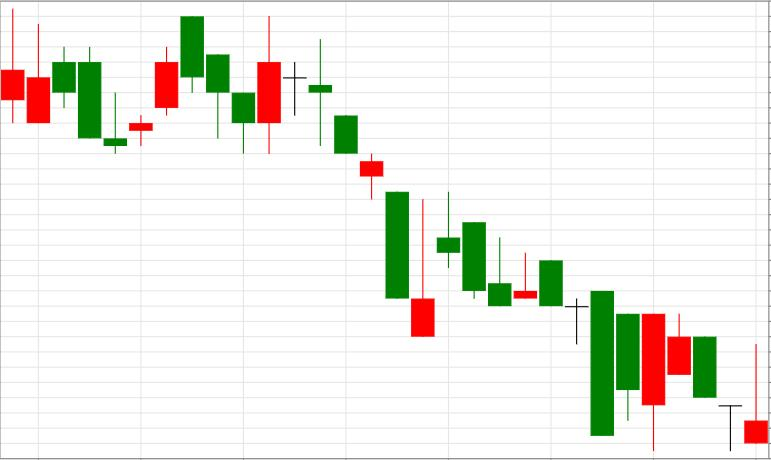inverse_hammer_rise: (180, 16, 434, 337)
